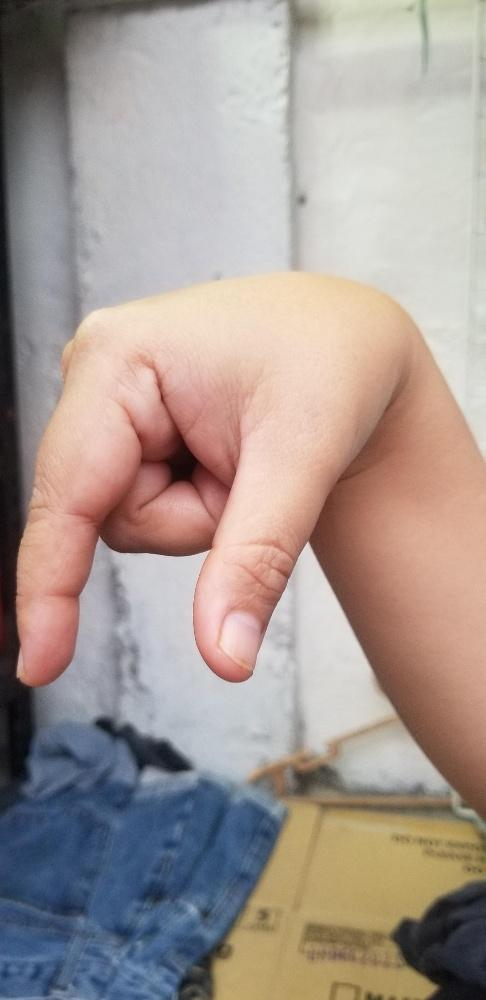q: (12, 269, 388, 683)
